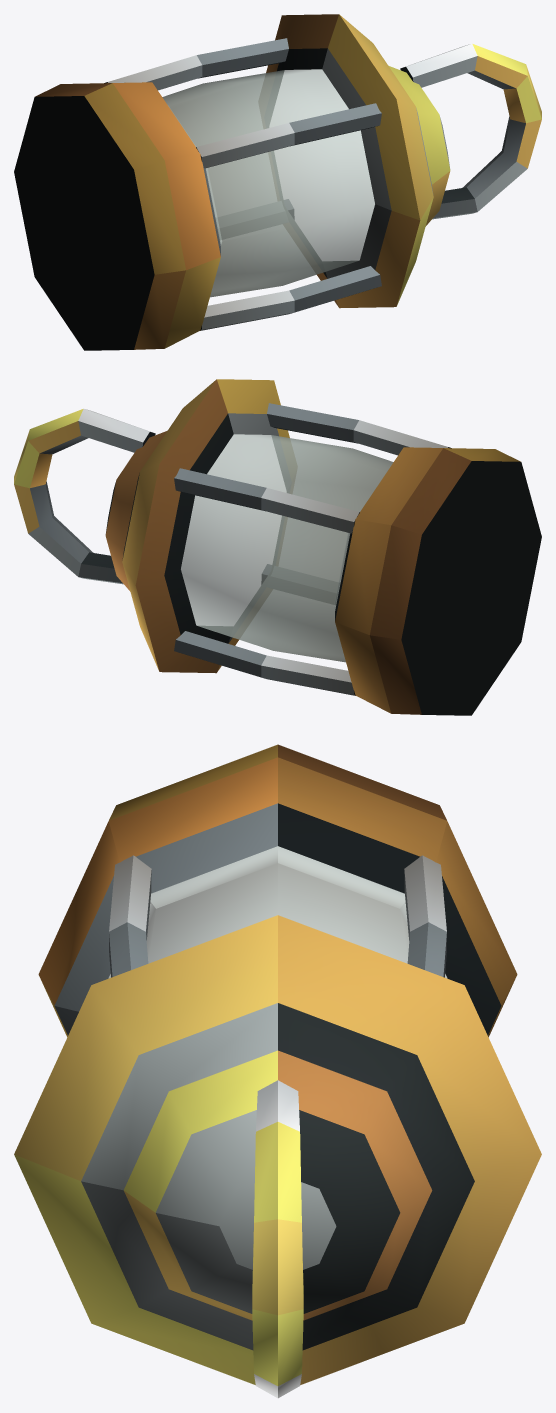
File: tool_lantern_brass.glb
The picture shows the model from 3 angles, top to bottom: view 1: azimuth 30°, elevation 25°; view 2: azimuth 150°, elevation 25°; view 3: azimuth 270°, elevation 25°; orthographic projection. The views are drawn at different scales.
Parts seen in each view (by area): view 1: Item; view 2: Item; view 3: Item.
Boxes of the visible parts, box(x1,y1,x2,y2) form: Item: box(14, 14, 541, 350); Item: box(14, 379, 541, 715); Item: box(14, 744, 541, 1398).
Bounding box in the file's own units: 0.808 × 0.496 × 0.496.
Materials: 5 (5 with a texture image).
